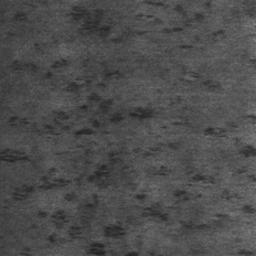Rolled in scale: (0, 0, 256, 256), (235, 238, 254, 256)
